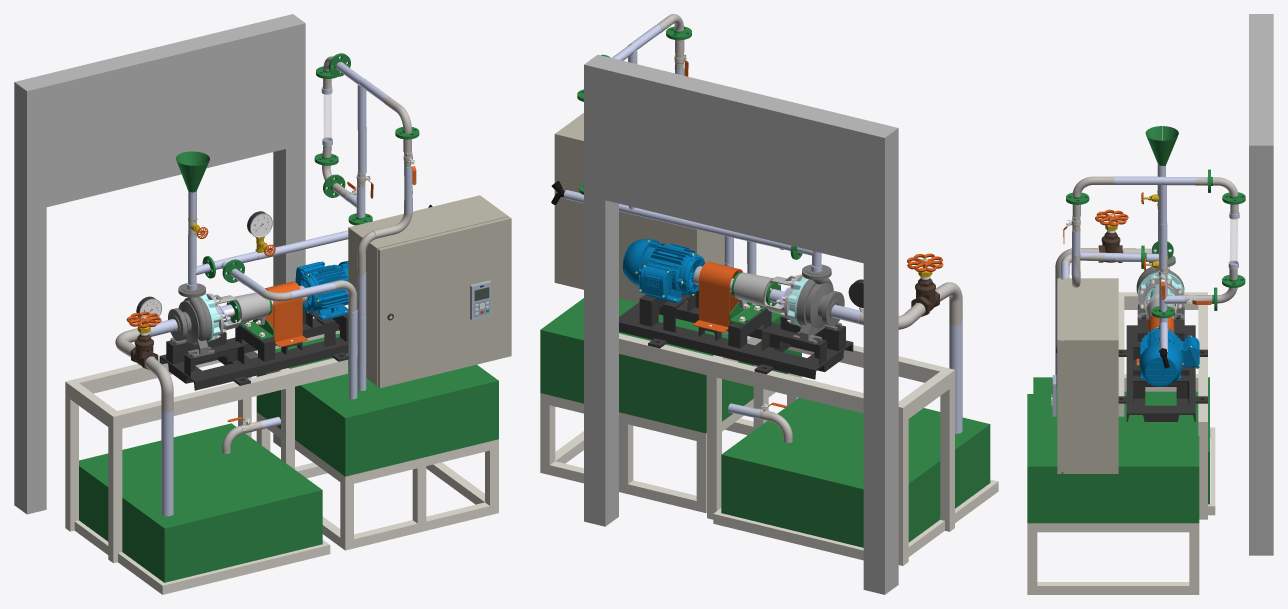
The model's file is bomba-draco.glb.
The picture shows the model from 3 angles, left to right: view 1: azimuth 30°, elevation 25°; view 2: azimuth 150°, elevation 25°; view 3: azimuth 270°, elevation 25°; orthographic projection. The views are drawn at different scales.
Visible parts, largest first — view 1: senai_placa.stp-1, reservatorio.stp-1, Estrutura tubular da bancada, CEMAR-1, reservatorio_2.stp-1, Base-1, casing oficial-1, Motor teste-2, PUMP PROTECTION-1, PIPE MASTER 65-4, House Bearing-1, hopperfunnel 2-1 (+2 smaller); view 2: senai_placa.stp-1, Estrutura tubular da bancada, reservatorio.stp-1, reservatorio_2.stp-1, Base-1, CEMAR-1, Motor teste-2, casing oficial-1, PUMP PROTECTION-1, House Bearing-1, PIPE MASTER 65-4, Curva 90° 2-1 (+1 smaller); view 3: reservatorio_2.stp-1, senai_placa.stp-1, CEMAR-1, Estrutura tubular da bancada, Base-1, Motor teste-2, hopperfunnel 2-1, reservatorio.stp-1, House Bearing-1, casing oficial-1, Curva 90° 35-4, Curva 90° 35-7 (+7 smaller).
Boxes of the visible parts, box(x1,y1,x2,y2) form: senai_placa.stp-1: box(14, 14, 305, 514); reservatorio.stp-1: box(79, 423, 322, 582); Estrutura tubular da bancada: box(65, 330, 498, 594); CEMAR-1: box(348, 195, 511, 387); reservatorio_2.stp-1: box(256, 333, 498, 476); Base-1: box(159, 306, 348, 390); casing oficial-1: box(168, 283, 214, 357); Motor teste-2: box(295, 261, 348, 319); PUMP PROTECTION-1: box(265, 281, 307, 347); PIPE MASTER 65-4: box(161, 411, 173, 516); House Bearing-1: box(205, 292, 270, 339); hopperfunnel 2-1: box(175, 151, 209, 192); senai_placa.stp-1: box(584, 54, 898, 594); Estrutura tubular da bancada: box(540, 326, 998, 565); reservatorio.stp-1: box(721, 398, 990, 547); reservatorio_2.stp-1: box(540, 298, 801, 433); Base-1: box(619, 291, 853, 379); CEMAR-1: box(554, 113, 724, 302); Motor teste-2: box(622, 239, 705, 303); casing oficial-1: box(793, 264, 844, 344); PUMP PROTECTION-1: box(693, 261, 743, 332); House Bearing-1: box(733, 272, 802, 324); PIPE MASTER 65-4: box(949, 320, 962, 433); Curva 90° 2-1: box(935, 282, 962, 325); reservatorio_2.stp-1: box(1027, 394, 1199, 523); senai_placa.stp-1: box(1249, 14, 1273, 555); CEMAR-1: box(1056, 278, 1118, 473); Estrutura tubular da bancada: box(1027, 292, 1215, 594); Base-1: box(1118, 315, 1207, 421); Motor teste-2: box(1138, 326, 1199, 386); hopperfunnel 2-1: box(1145, 126, 1178, 165); reservatorio.stp-1: box(1033, 377, 1209, 504); House Bearing-1: box(1138, 277, 1183, 319); casing oficial-1: box(1136, 255, 1184, 319); Curva 90° 35-4: box(1072, 176, 1114, 217); Curva 90° 35-7: box(1195, 177, 1238, 214).
Size of the model in its own units: 1.76 by 1.85 by 1.
